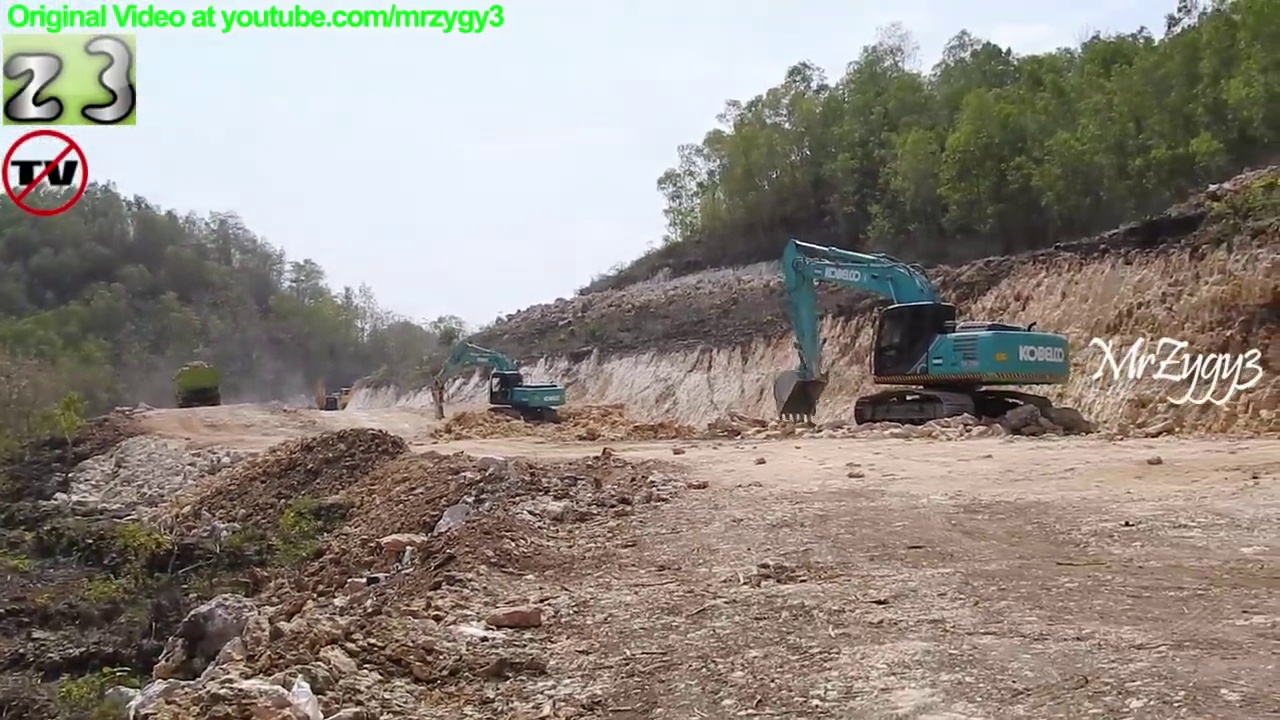excavator: (769, 234, 1079, 433), (331, 371, 372, 416), (312, 374, 341, 414)
excavator breaker: (426, 338, 569, 436)
truck: (169, 357, 226, 410)
